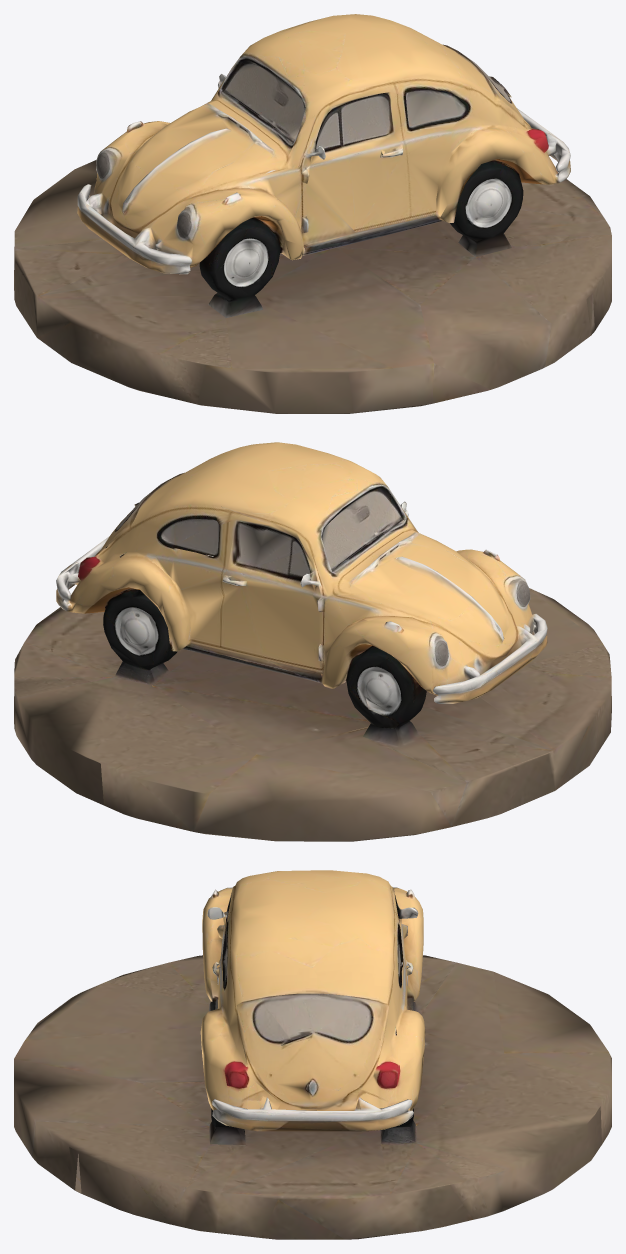
Rendered from token-beetle-car.glb.
3 views of the same model, one above another, from view 1: azimuth 30°, elevation 25°; view 2: azimuth 150°, elevation 25°; view 3: azimuth 270°, elevation 25° (orthographic).
Bounding box in the file's own units: 1.89 × 0.8578 × 1.89.
1 material, 1 textured.
